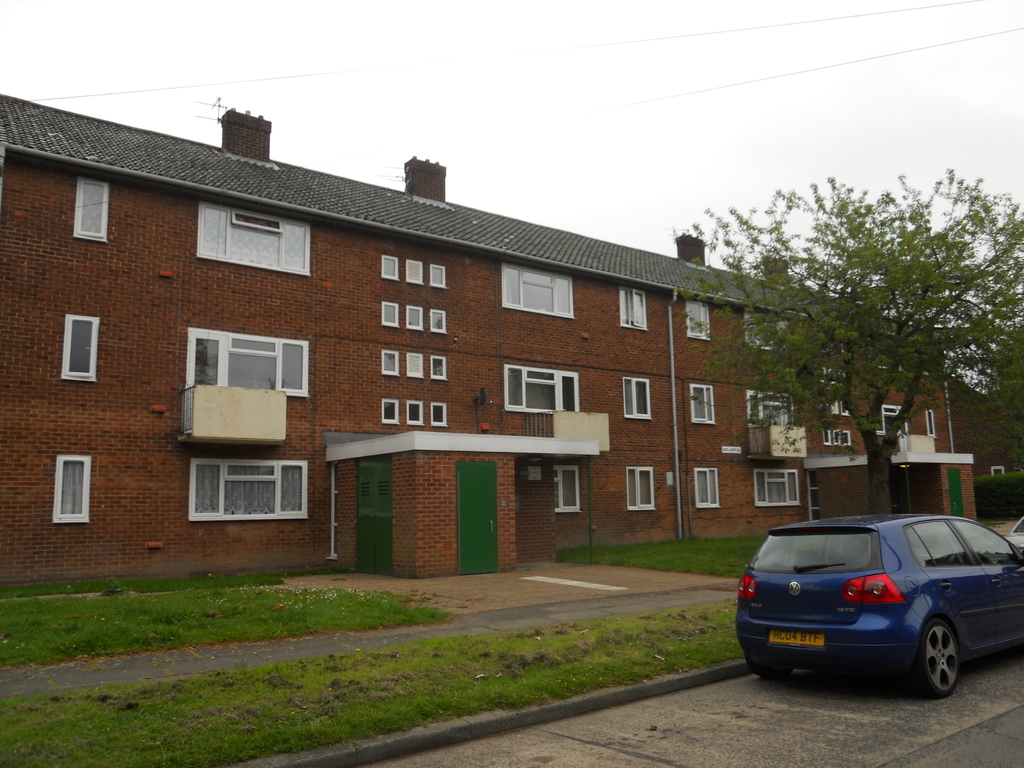Car: (738, 517, 1007, 700)
